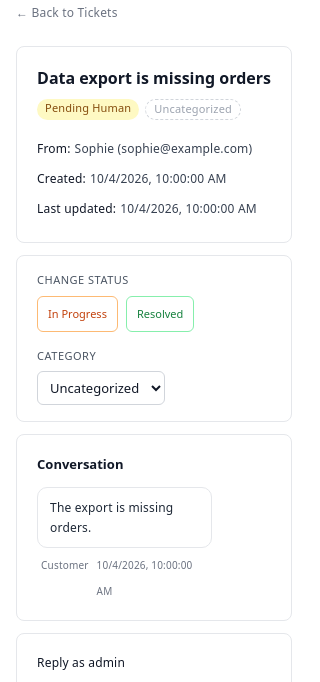
TicketDetailPage › lets the admin set the category of an uncategorized ticket
Expected: the text "Uncategorized" is shown, [145,100,241,120]
Select "Billing" in the dropdown named "Category" at (101, 388), box [37,371,165,405]
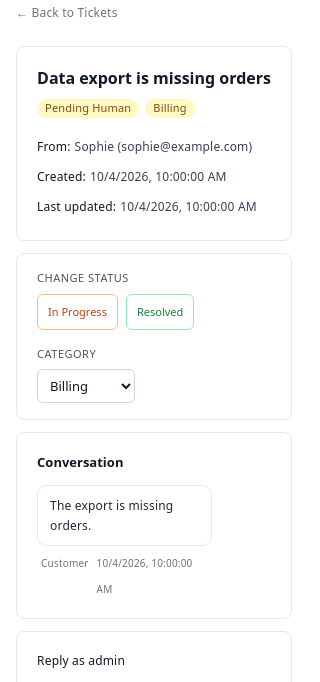
Now the text "Uncategorized" reads "Billing", box [153,100,187,116]
